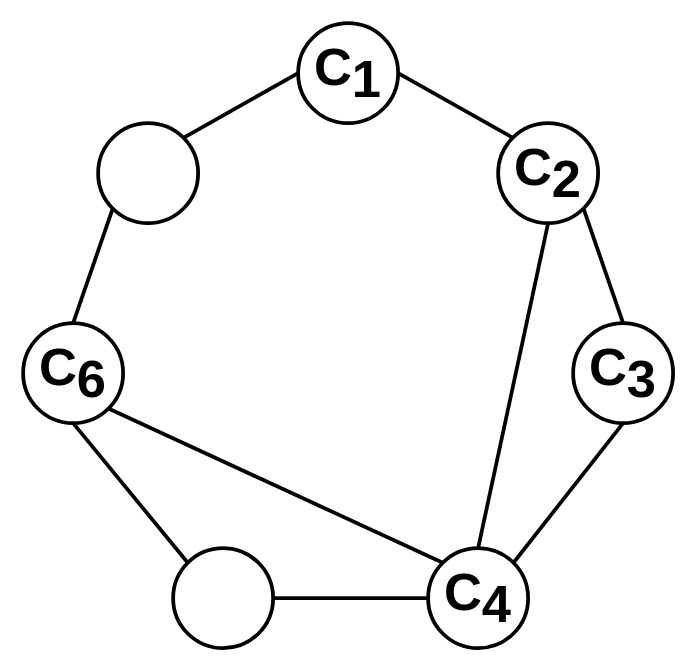
This 696x671 diagram has some shape labels left out. The centre of each missing label's shape, as x and y in pixels:
"C 0" belongs at (x=147, y=172).
"C 5" belongs at (x=222, y=597).
